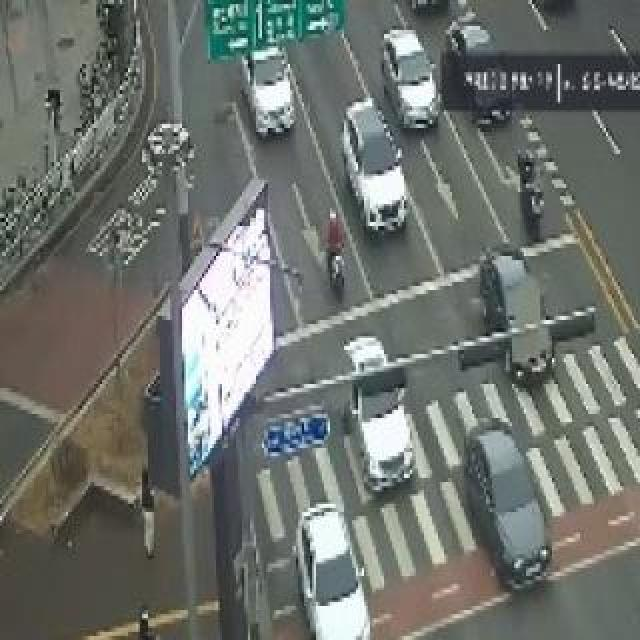motorbike: (503, 141, 553, 239), (313, 195, 351, 309)
